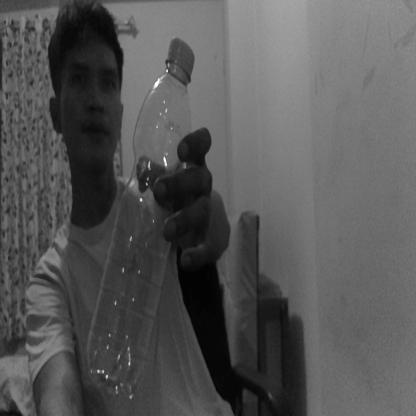plastic_bottles: (84, 35, 195, 406)
